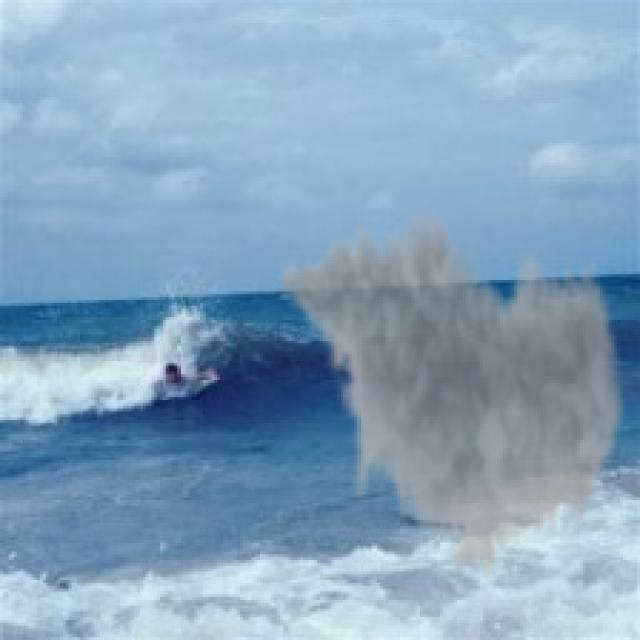smoke: (274, 200, 629, 586)
